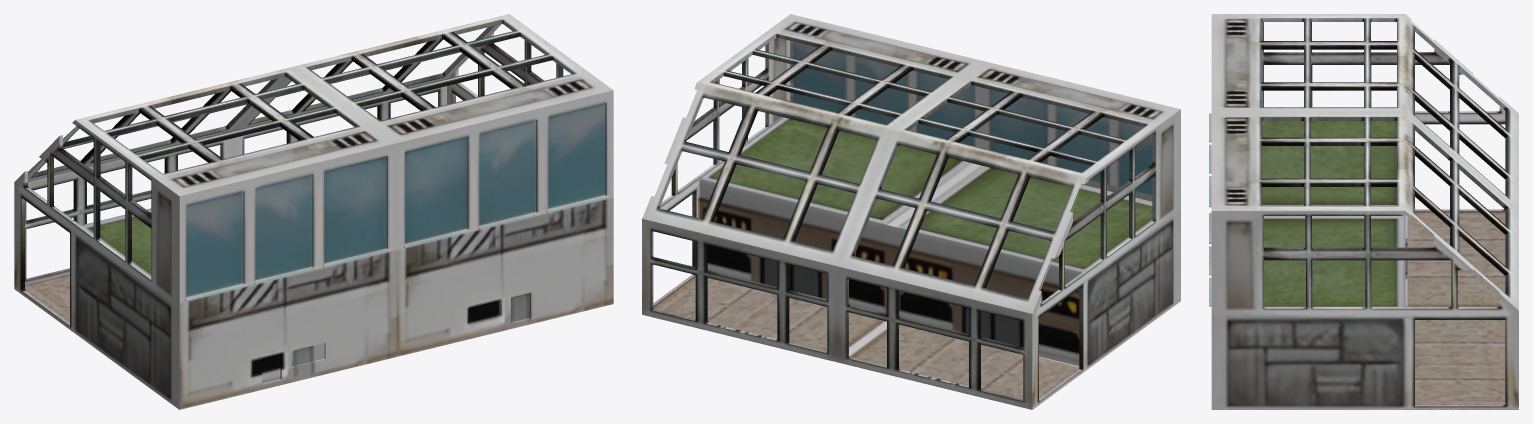
File: lobby_cad.glb
The picture shows the model from 3 angles, left to right: view 1: azimuth 30°, elevation 25°; view 2: azimuth 150°, elevation 25°; view 3: azimuth 270°, elevation 25°; orthographic projection. The views are drawn at different scales.
Visible parts, largest first — view 1: Lobby; view 2: Lobby; view 3: Lobby.
Boxes of the visible parts, x1,y1,x2,y2 form: Lobby: [14, 14, 613, 409]; Lobby: [642, 14, 1180, 409]; Lobby: [1209, 14, 1518, 409].
Bounding box in the file's own units: 25.51 × 12 × 16.94.
Materials: 1 (1 with a texture image).
